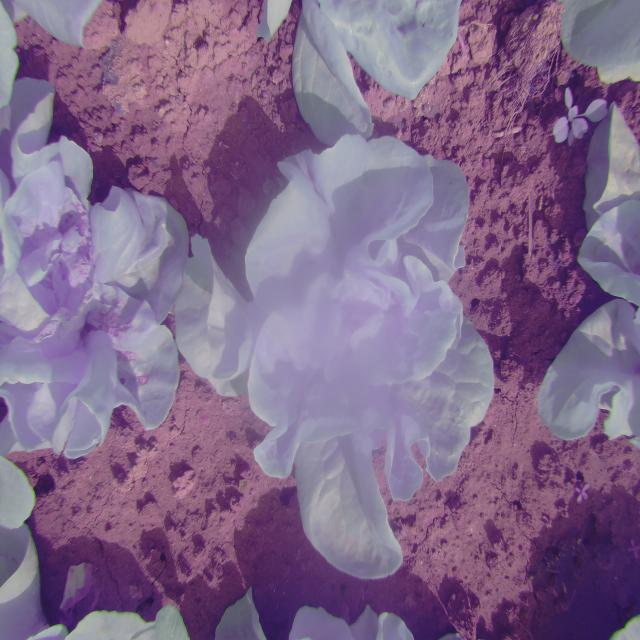vege: (227, 123, 500, 583)
